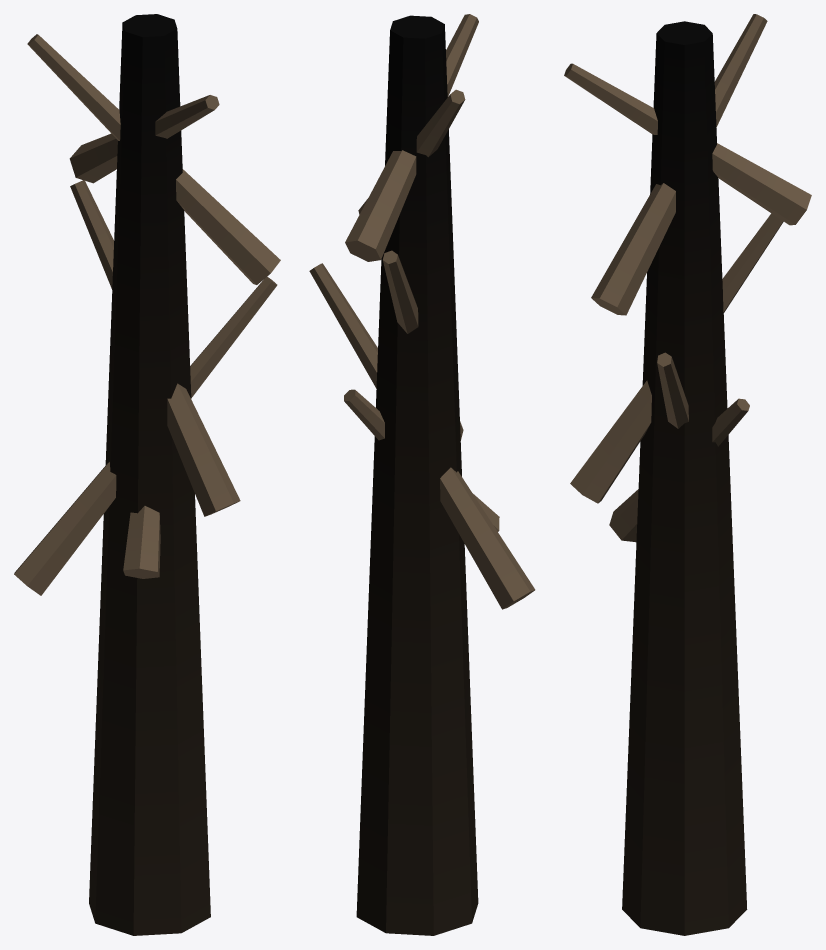
Rendered from prop_deadtree.glb.
3 views of the same model, side by side, from view 1: azimuth 30°, elevation 25°; view 2: azimuth 150°, elevation 25°; view 3: azimuth 270°, elevation 25° (orthographic).
Visible parts, largest first — view 1: DeadTree; view 2: DeadTree; view 3: DeadTree.
Boxes of the visible parts, x1,y1,x2,y2 form: DeadTree: [14, 14, 280, 935]; DeadTree: [309, 14, 535, 935]; DeadTree: [564, 14, 811, 935].
Size of the model in its own units: 0.9713 by 3.4 by 0.8716.
